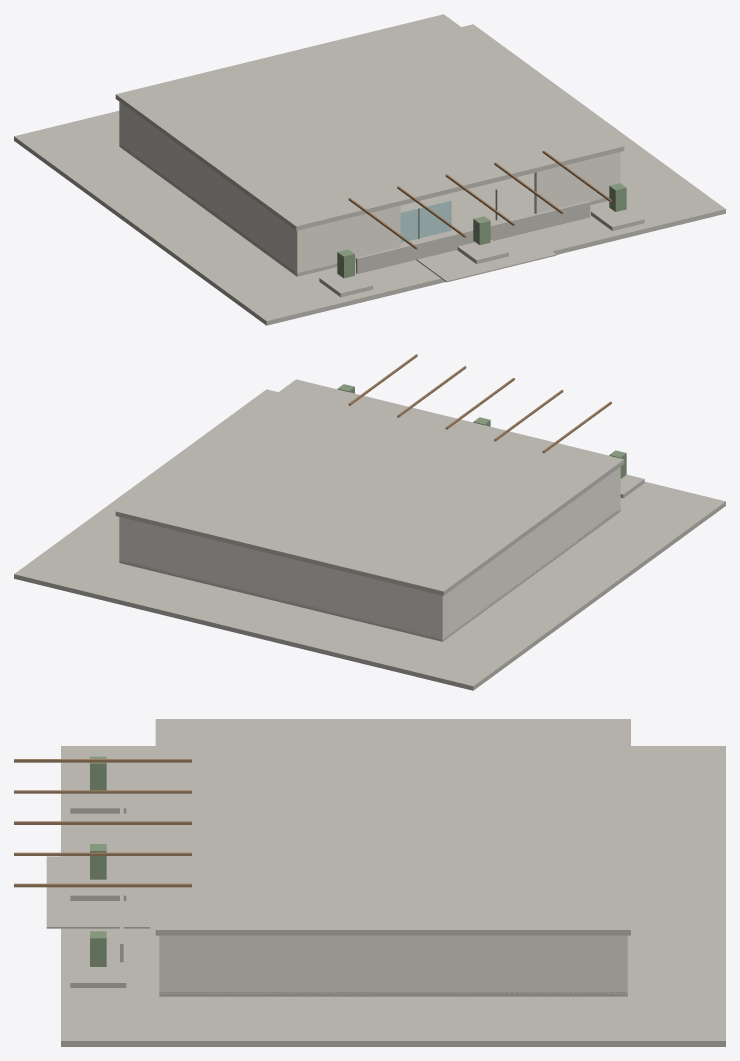
The model's file is line-and-light-villa.glb.
3 renders of one model, top to bottom at view 1: azimuth 30°, elevation 25°; view 2: azimuth 150°, elevation 25°; view 3: azimuth 270°, elevation 25°, orthographic. The views are drawn at different scales.
Parts seen in each view (by area): view 1: roof_roof, site_base, structure_left, structure_floor, structure_front-left, structure_terrace-edge, structure_front-right, site_path, glass_front-glazing, site_planter-2, site_planter-0, site_planter-1; view 2: roof_roof, site_base, structure_rear, structure_left, structure_floor; view 3: roof_roof, site_base, structure_right, site_path, structure_floor, site_planter-2, site_planter-0, site_planter-1, structure_pergola-4, structure_pergola-0, structure_pergola-1, structure_pergola-2 (+5 smaller).
Part boxes in pixels (x1=…): roof_roof: x1=115, y1=14, x2=624, y2=230; site_base: x1=14, y1=24, x2=725, y2=325; structure_left: x1=119, y1=102, x2=300, y2=272; structure_floor: x1=119, y1=143, x2=609, y2=276; structure_front-left: x1=295, y1=205, x2=400, y2=273; structure_terrace-edge: x1=356, y1=201, x2=590, y2=273; structure_front-right: x1=534, y1=153, x2=616, y2=213; site_path: x1=416, y1=233, x2=556, y2=282; glass_front-glazing: x1=400, y1=200, x2=451, y2=242; site_planter-2: x1=591, y1=206, x2=644, y2=230; site_planter-0: x1=319, y1=272, x2=372, y2=297; site_planter-1: x1=457, y1=239, x2=508, y2=264; roof_roof: x1=115, y1=379, x2=624, y2=595; site_base: x1=14, y1=389, x2=725, y2=690; structure_rear: x1=119, y1=517, x2=444, y2=639; structure_left: x1=439, y1=468, x2=620, y2=639; structure_floor: x1=119, y1=508, x2=620, y2=641; roof_roof: x1=155, y1=719, x2=630, y2=935; site_base: x1=61, y1=746, x2=725, y2=1046; structure_right: x1=159, y1=935, x2=627, y2=994; site_path: x1=46, y1=856, x2=149, y2=928; structure_floor: x1=159, y1=992, x2=627, y2=996; site_planter-2: x1=70, y1=962, x2=126, y2=987; site_planter-0: x1=70, y1=787, x2=126, y2=813; site_planter-1: x1=70, y1=875, x2=126, y2=900; structure_pergola-4: x1=14, y1=883, x2=191, y2=887; structure_pergola-0: x1=14, y1=759, x2=191, y2=762; structure_pergola-1: x1=14, y1=790, x2=191, y2=793; structure_pergola-2: x1=14, y1=821, x2=191, y2=824.
Size of the model in its own units: 29.82 by 3.65 by 30.4.
